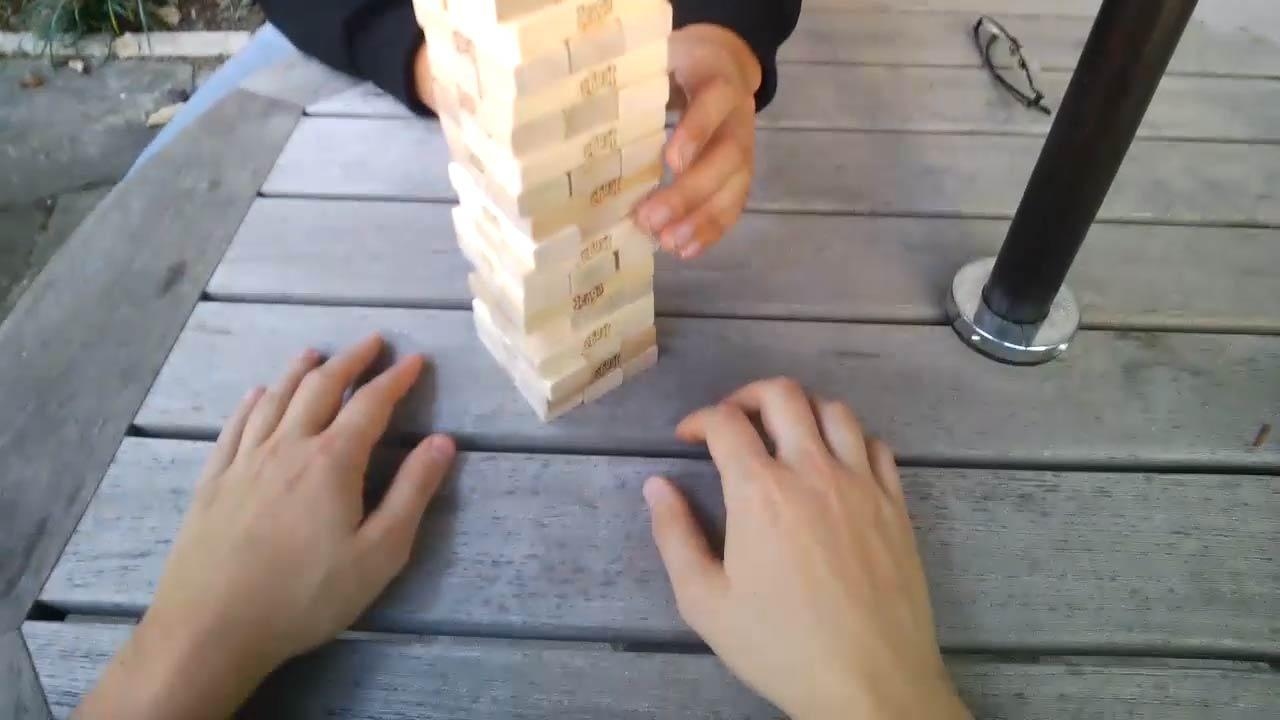hand: (640, 371, 950, 681), (165, 332, 459, 655), (664, 22, 765, 264)
